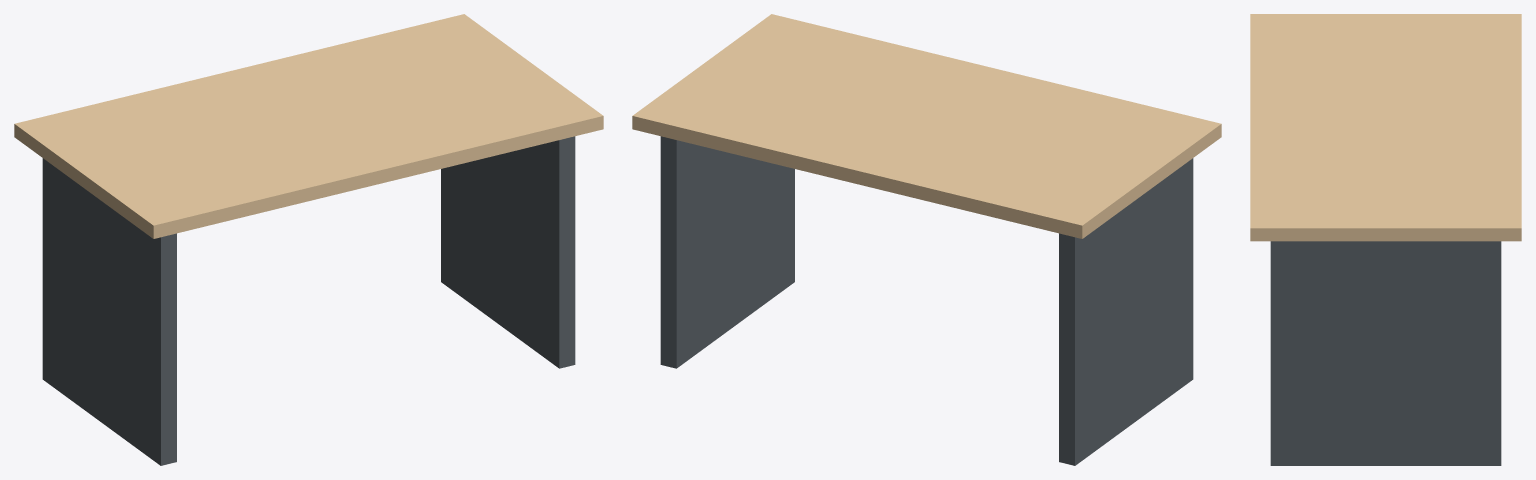
Rendered from isometric_workstation_variations_guide_20.glb.
3 renders of one model, left to right at view 1: azimuth 30°, elevation 25°; view 2: azimuth 150°, elevation 25°; view 3: azimuth 270°, elevation 25°, orthographic. The views are drawn at different scales.
Visible parts, largest first — view 1: Cube; view 2: Cube; view 3: Cube.
Boxes of the visible parts, x1,y1,x2,y2 form: Cube: [14, 14, 603, 465]; Cube: [632, 14, 1221, 465]; Cube: [1250, 14, 1521, 465].
Bounding box in the file's own units: 1.4 × 0.75 × 0.75.
